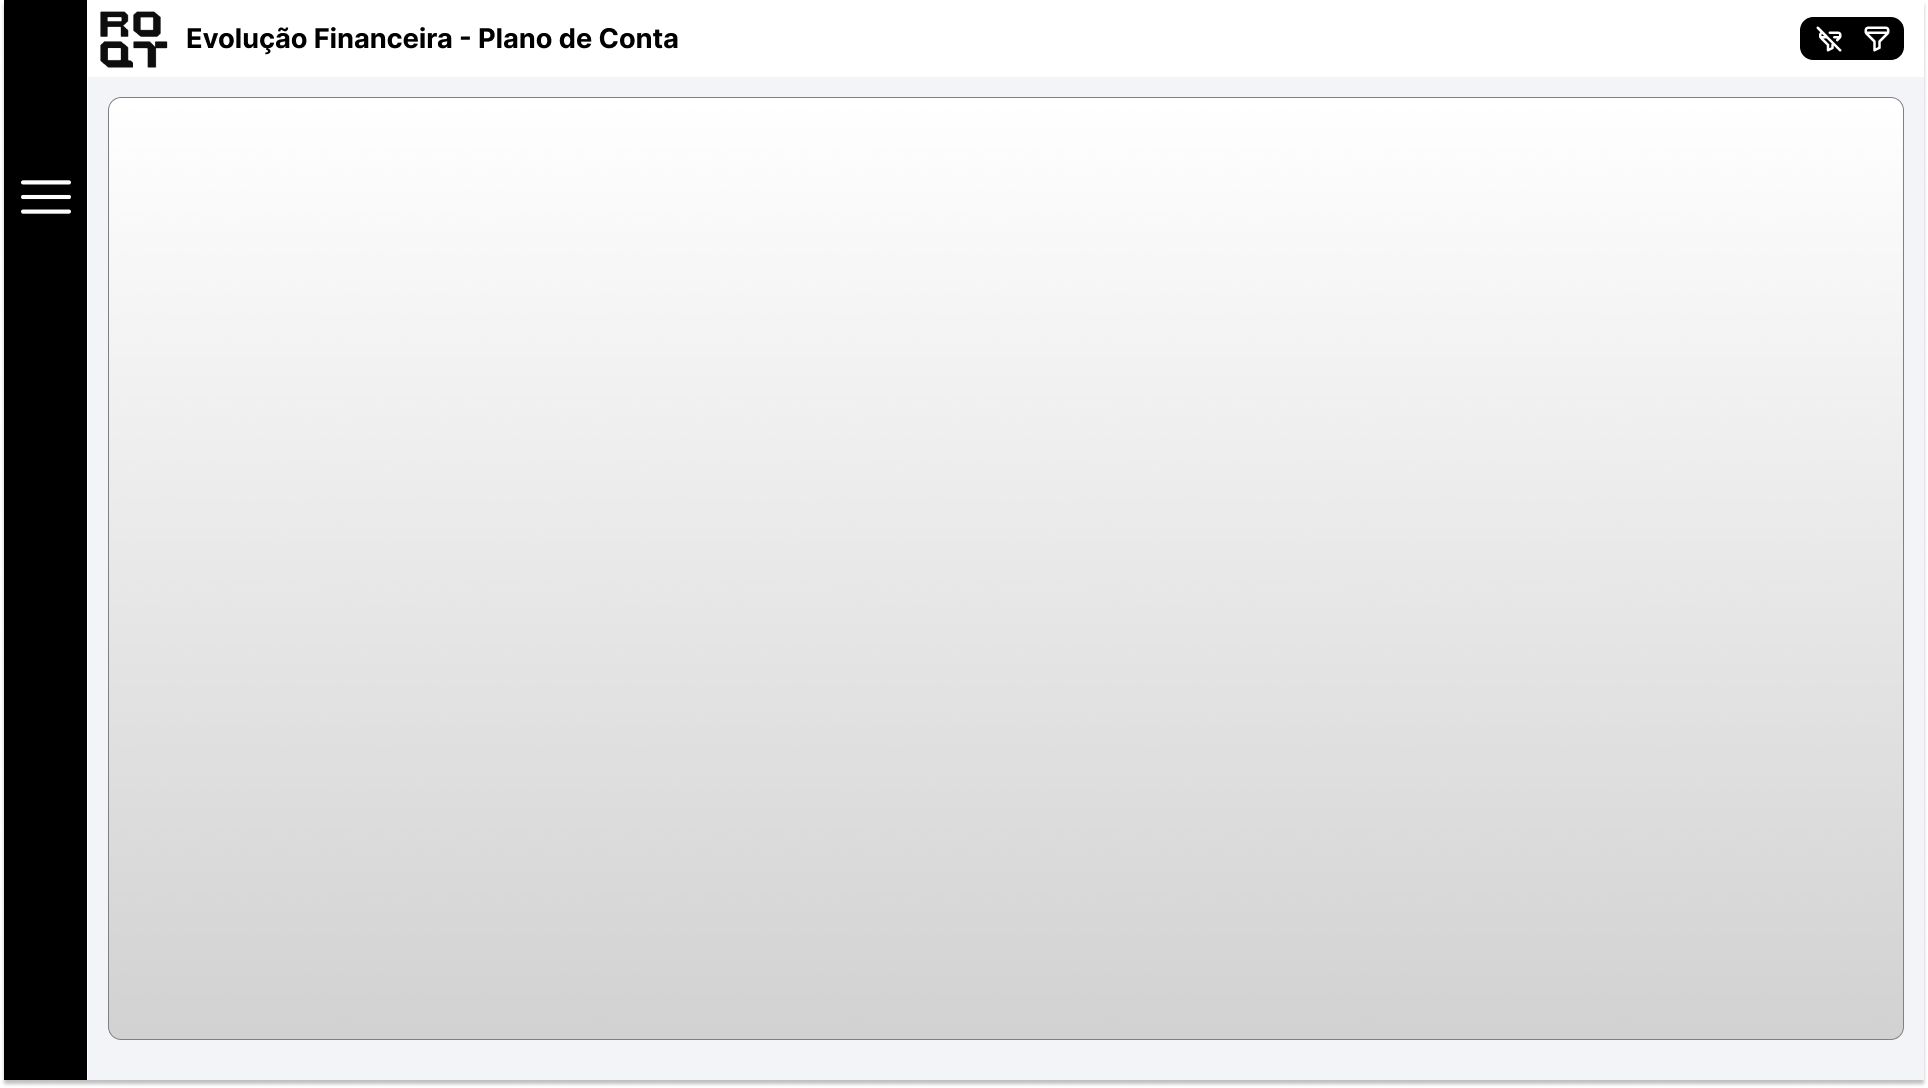

What the dashboard file says about the page in this screenshot:
{"tool":"powerbi","page":{"name":"EF Plano De Contas","canvas":[1280,720],"ordinal":4},"visuals":[{"type":"group","id":"g1","title":"Geral","box":[0,11,1266.5,677.2],"z":0},{"type":"pivotTable","fields":{"Rows":["d_Plano_de_Contas.Categoria","d_Plano_de_Contas.Grupo","d_Plano_de_Contas.Nome"],"Values":["Medidas.m_Resultado_DRE","Medidas.m_av_plano_contas","Medidas.m_Seta_Variacao"],"Columns":["d_Calendario.Ano","d_Calendario.Mês"]},"box":[72.4,64.1,1194.1,624.1],"z":0,"group":"g1"},{"type":"actionButton","title":"botao - menu lateral","box":[0,110,57.5,40],"z":1000,"group":"g1"},{"type":"actionButton","title":"botao - limpa filtros","box":[1198.9,11.1,30,27.8],"z":2000,"group":"g1"},{"type":"actionButton","title":"botao - filtros","box":[1229,11,30,28],"z":3000,"group":"g1"}]}

Visuals, with their boxes on the page's 1280x720 design canvas (x1, y1, x2, y2). These are canvas units, not pixel positions in the 1928x1088 screenshot, which may show the page scaled, cropped or inside an application window:
"Geral" group: crop(0, 11, 1266, 688)
pivotTable - d_Plano_de_Contas.Categoria x d_Plano_de_Contas.Grupo: crop(72, 64, 1266, 688)
"botao - menu lateral" actionButton: crop(0, 110, 58, 150)
"botao - limpa filtros" actionButton: crop(1199, 11, 1229, 39)
"botao - filtros" actionButton: crop(1229, 11, 1259, 39)
